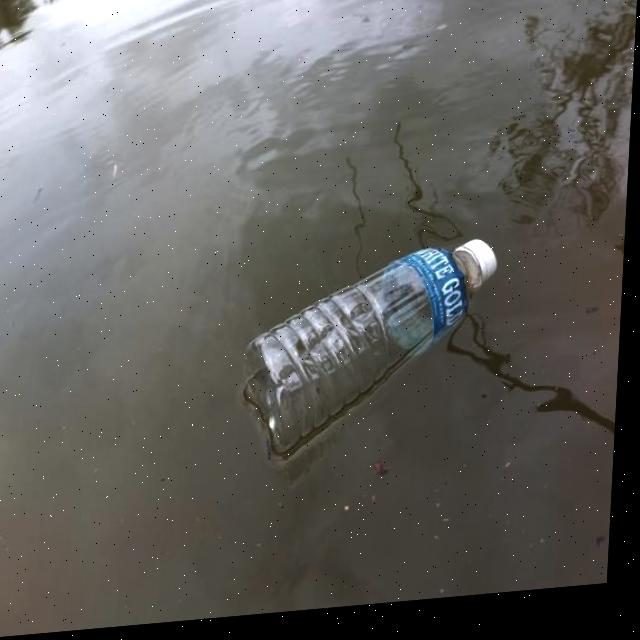waterbottle: (236, 232, 533, 455)
